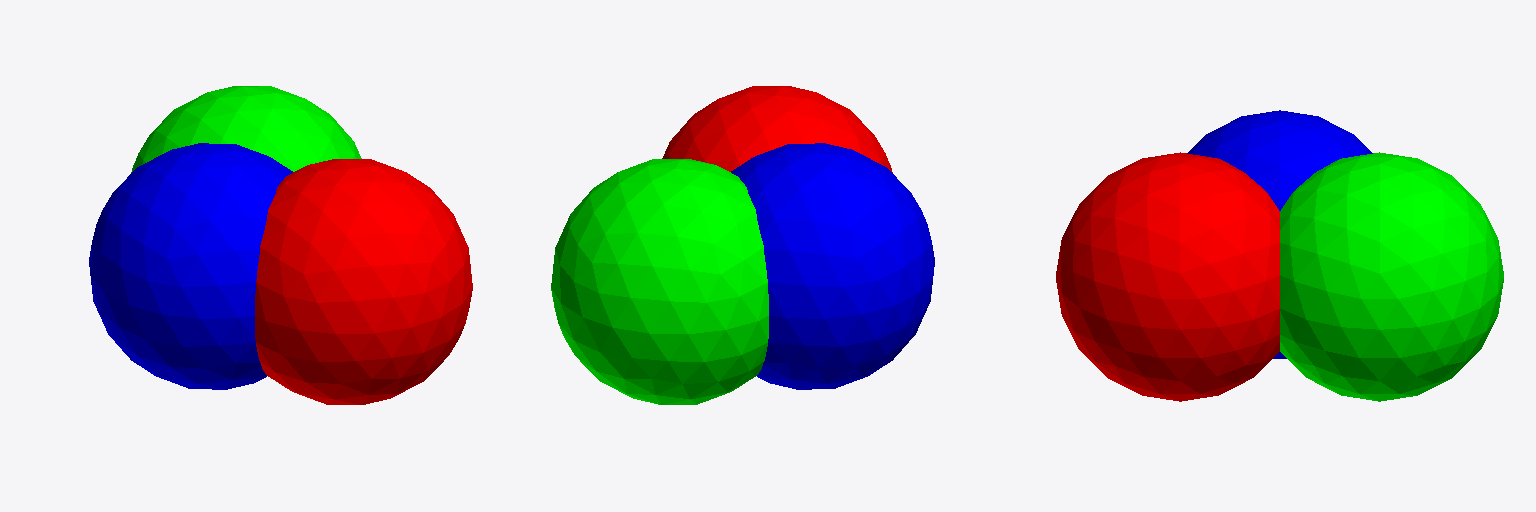
The model's file is three_spheres.obj.
The picture shows the model from 3 angles: view 1: azimuth 30°, elevation 25°; view 2: azimuth 150°, elevation 25°; view 3: azimuth 270°, elevation 25°; orthographic projection.
Visible parts, largest first — view 1: Icosphere; view 2: Icosphere; view 3: Icosphere.
Boxes of the visible parts, <box> form: Icosphere: <box>89,86,472,404</box>; Icosphere: <box>551,86,934,404</box>; Icosphere: <box>1056,110,1503,401</box>.
Size of the model in its own units: 7 by 5 by 9.